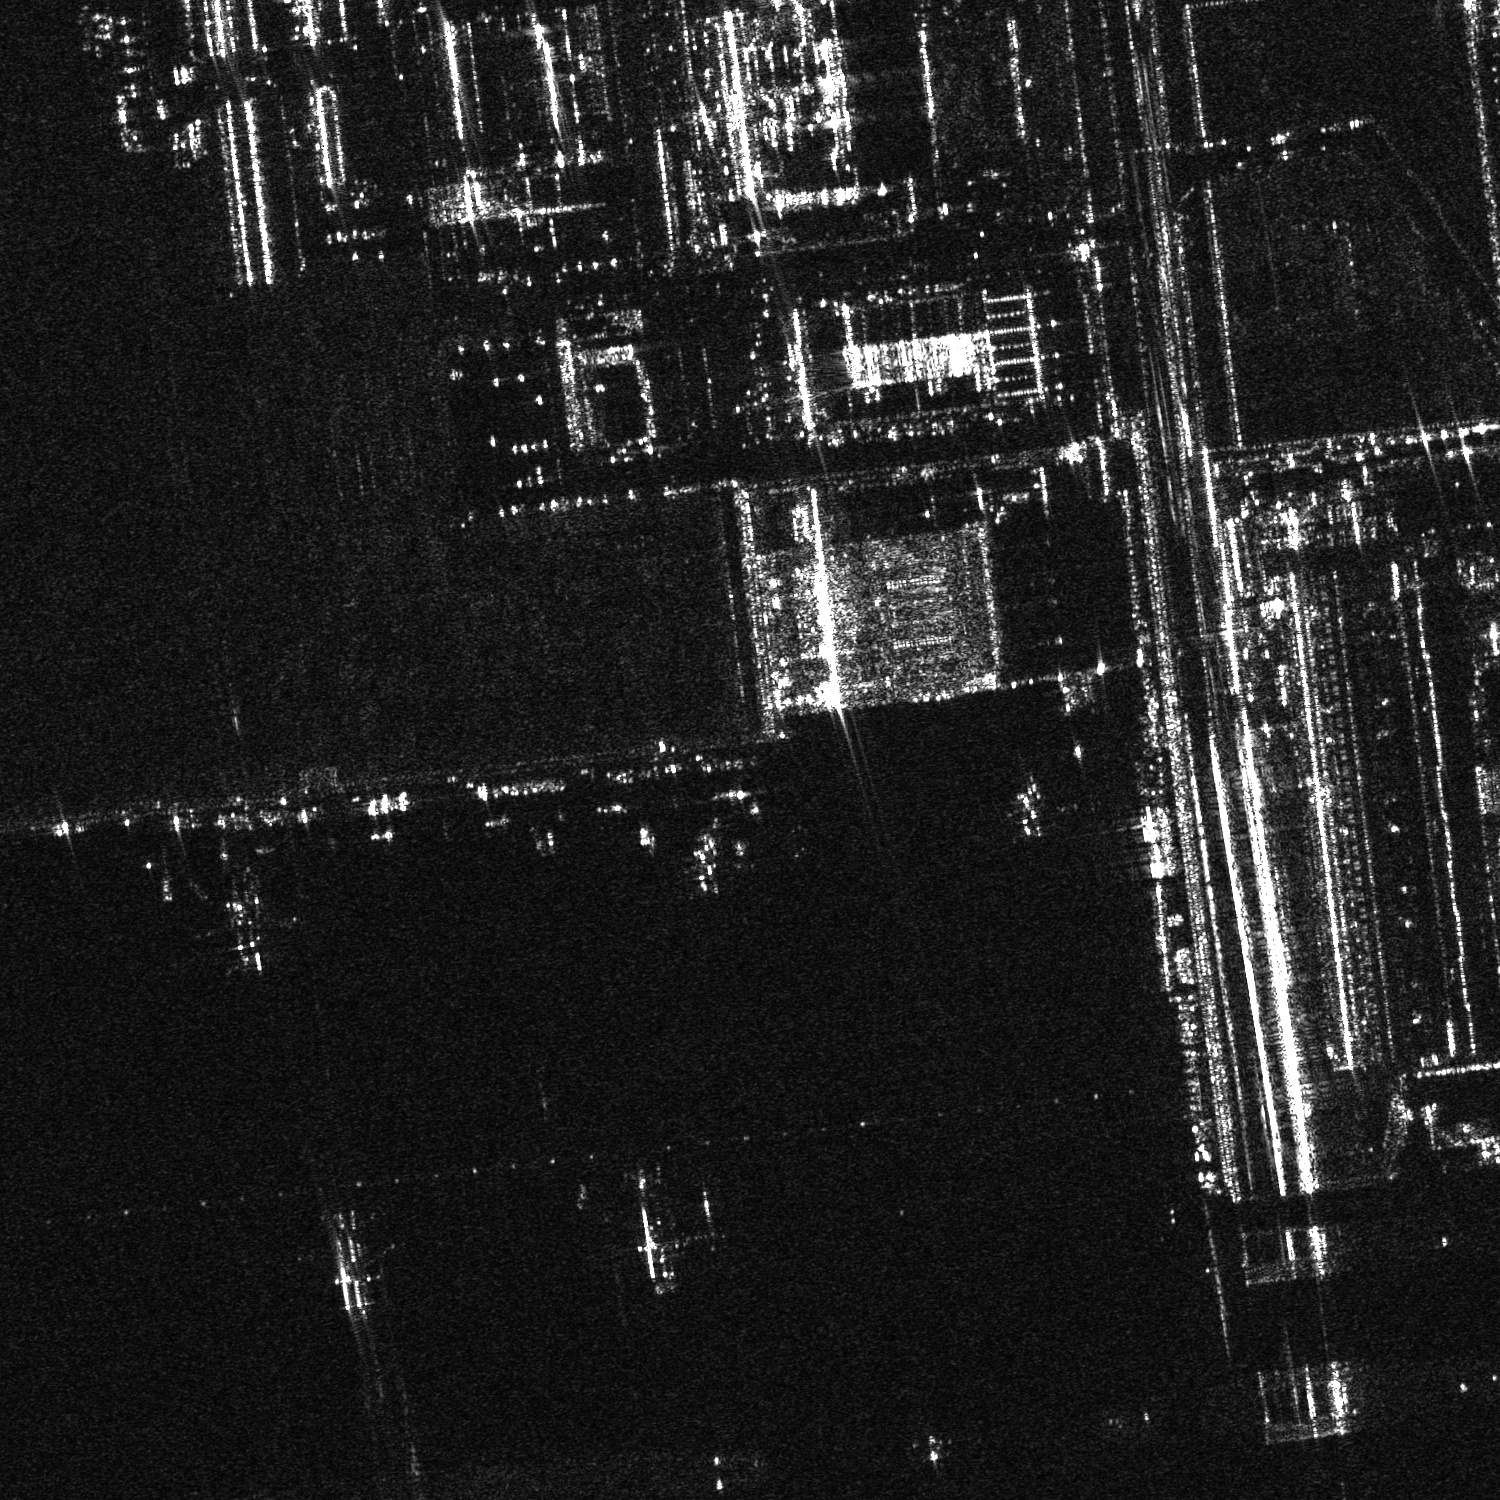A220: (665, 816, 749, 896)
A320/321: (191, 865, 299, 979), (999, 779, 1065, 843)
